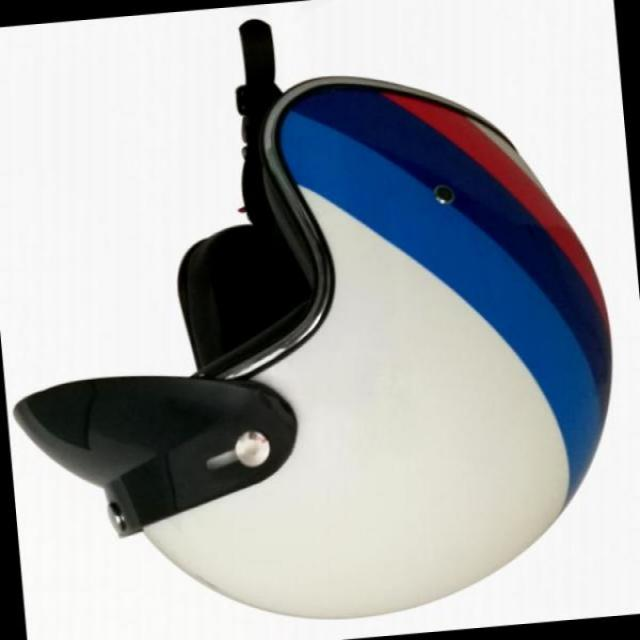Helmet: (14, 72, 640, 633)
